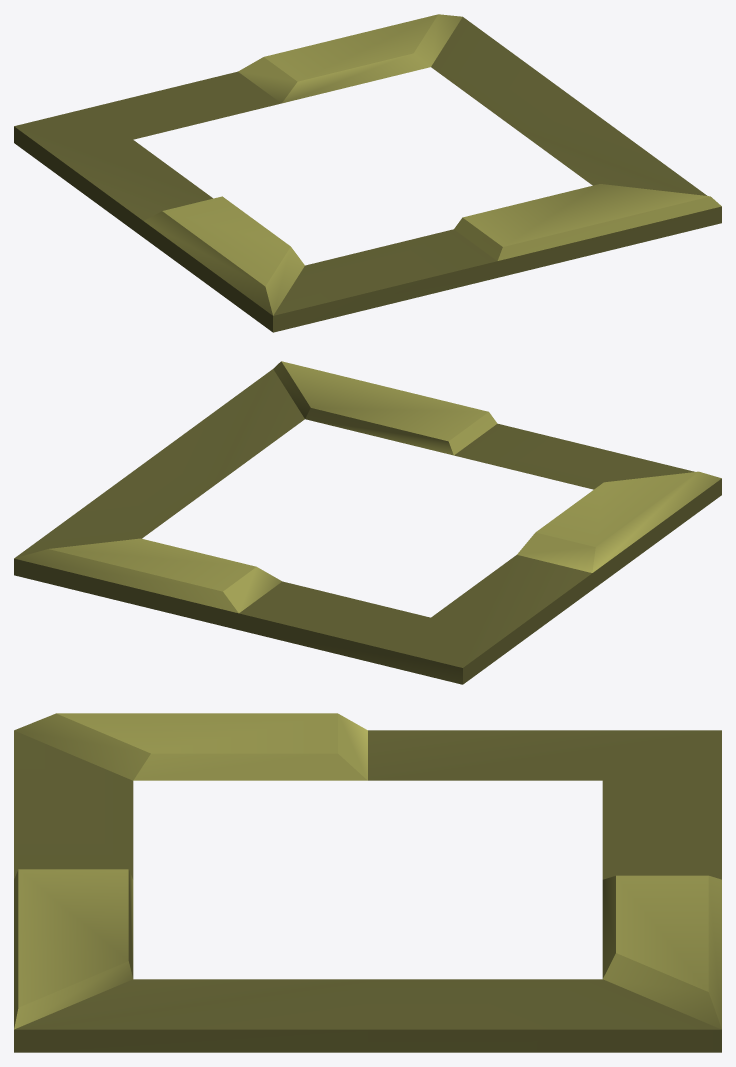
The model's file is ButtonHolder.fbx.
3 renders of one model, top to bottom at view 1: azimuth 30°, elevation 25°; view 2: azimuth 150°, elevation 25°; view 3: azimuth 270°, elevation 25°, orthographic. The views are drawn at different scales.
Visible parts, largest first — view 1: Switch.001; view 2: Switch.001; view 3: Switch.001.
Boxes of the visible parts, <box> form: Switch.001: <box>14,14,721,332</box>; Switch.001: <box>14,361,721,684</box>; Switch.001: <box>14,713,721,1052</box>.
Bounding box in the file's own units: 0.6675 × 0.0468 × 0.6675.
